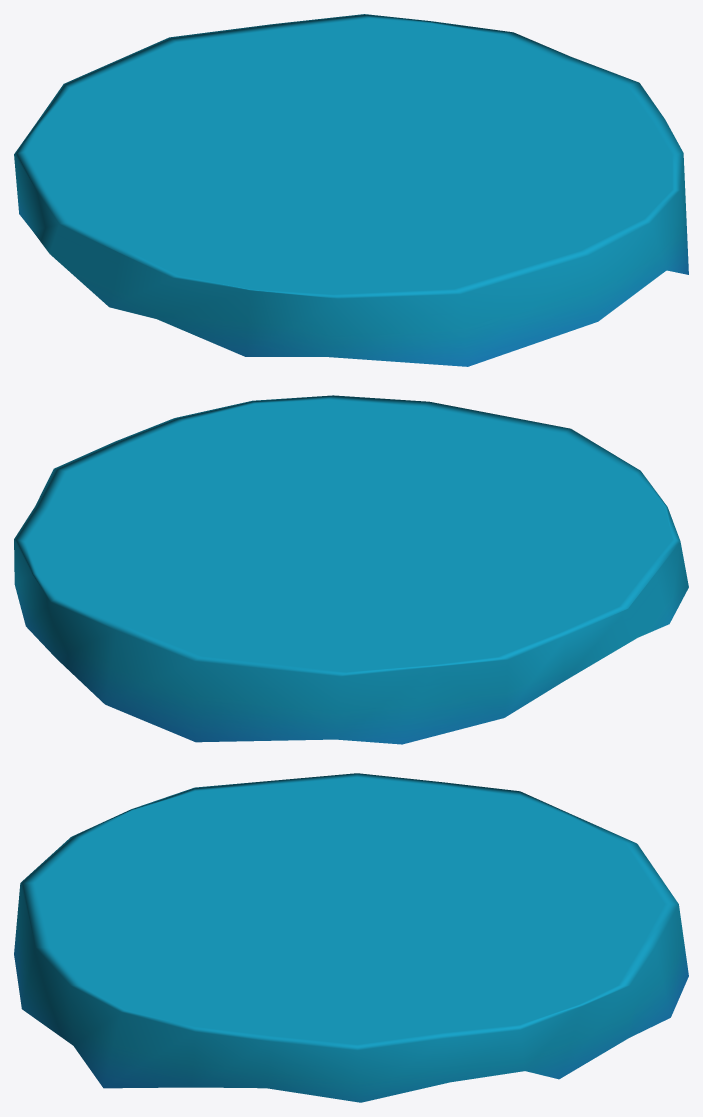
File: SM_Table_Rounded_Cloth_01.fbx
The picture shows the model from 3 angles, top to bottom: view 1: azimuth 30°, elevation 25°; view 2: azimuth 150°, elevation 25°; view 3: azimuth 270°, elevation 25°; orthographic projection. The views are drawn at different scales.
Parts seen in each view (by area): view 1: SM_Table_Rounded_Cloth_01; view 2: SM_Table_Rounded_Cloth_01; view 3: SM_Table_Rounded_Cloth_01.
Part boxes in pixels (<box>): SM_Table_Rounded_Cloth_01: <box>14,14,688,366</box>; SM_Table_Rounded_Cloth_01: <box>14,395,688,744</box>; SM_Table_Rounded_Cloth_01: <box>14,773,688,1102</box>.
Bounding box in the file's own units: 188 × 23.65 × 190.
